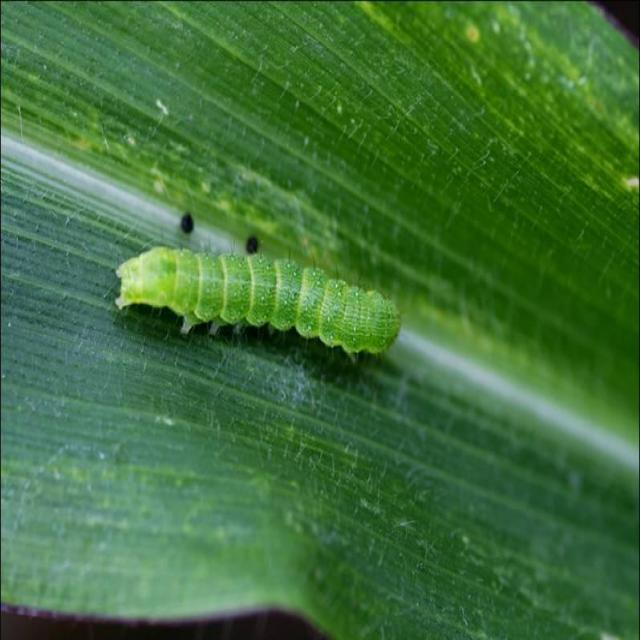BeetArmyWorm-Larva-: (98, 225, 408, 386)
